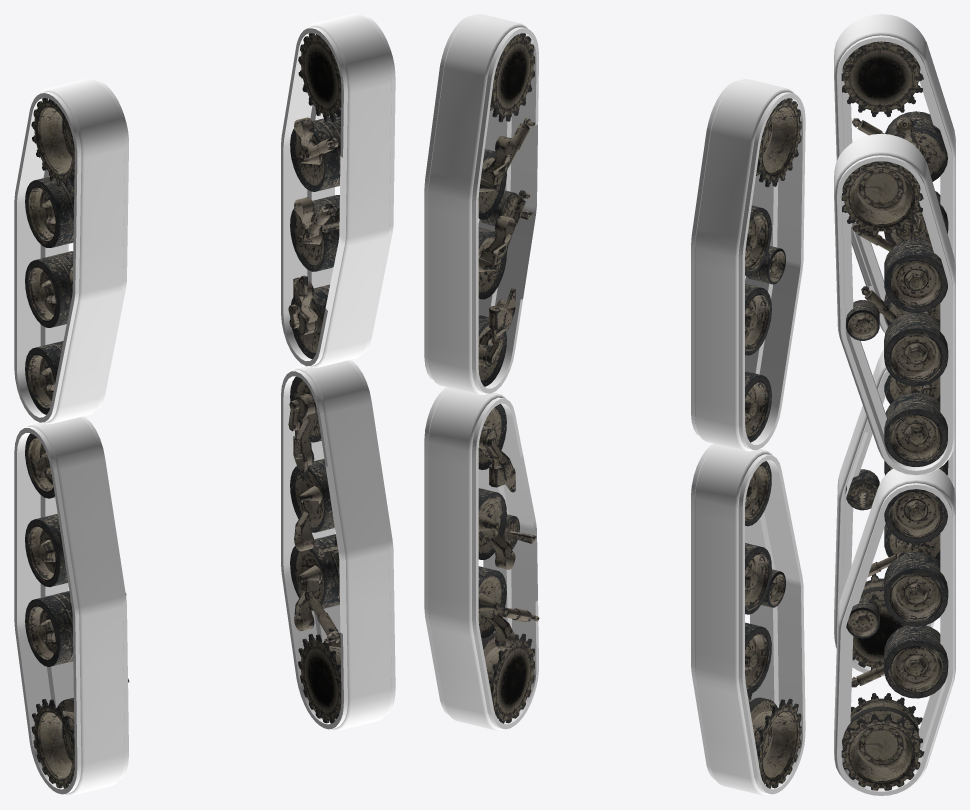
The model's file is Chassis.glb.
3 renders of one model, left to right at view 1: azimuth 30°, elevation 25°; view 2: azimuth 150°, elevation 25°; view 3: azimuth 270°, elevation 25°, orthographic. The views are drawn at different scales.
Visible parts, largest first — view 1: set_0_group_0, set_1_group_0, set_3_group_0, set_2_group_0; view 2: set_0_group_0, set_1_group_0, set_3_group_0, set_2_group_0; view 3: set_3_group_0, set_1_group_0, set_2_group_0, set_0_group_0.
Part boxes in pixels (left/top/right/bottom): set_0_group_0: left=14, top=79, right=128, bottom=795; set_1_group_0: left=281, top=14, right=395, bottom=730; set_3_group_0: left=288, top=33, right=341, bottom=723; set_2_group_0: left=25, top=98, right=129, bottom=788; set_0_group_0: left=691, top=79, right=805, bottom=795; set_1_group_0: left=424, top=14, right=538, bottom=730; set_3_group_0: left=478, top=33, right=539, bottom=723; set_2_group_0: left=745, top=98, right=801, bottom=788; set_3_group_0: left=841, top=161, right=948, bottom=790; set_1_group_0: left=834, top=133, right=955, bottom=795; set_2_group_0: left=841, top=41, right=948, bottom=669; set_0_group_0: left=834, top=14, right=955, bottom=676.
Size of the model in its own units: 3.53 by 7.43 by 1.27.
Materials: 4 (2 with a texture image).
